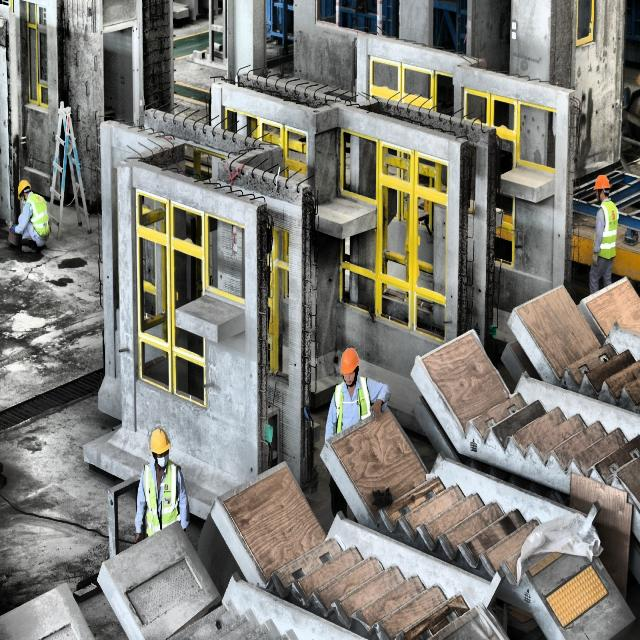safety_helmet: (149, 426, 174, 471), (338, 346, 362, 379), (13, 176, 37, 200), (592, 165, 612, 192)
safety_jacket: (133, 458, 186, 546), (321, 376, 383, 445), (26, 196, 53, 246), (601, 201, 620, 264)
